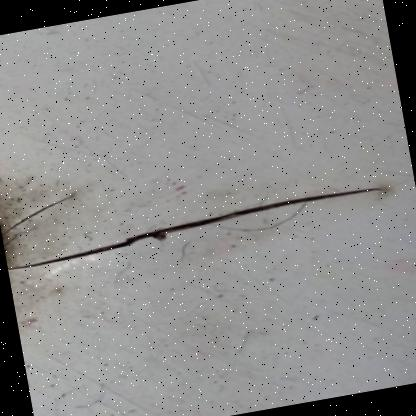Crack: (0, 118, 415, 309)
